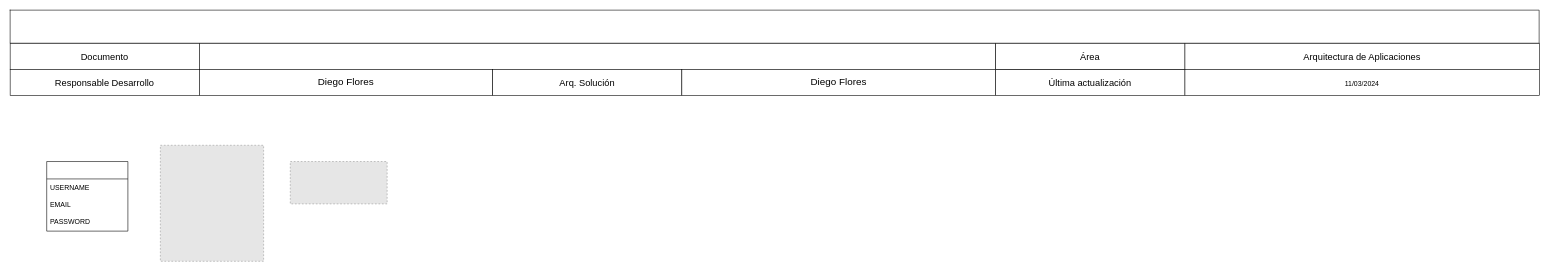
The diagram is 1556 pixels wide and 271 high, and some of its shapes have lost their labels. Grey dashed boxes stand in for pictures. The box of each missing label's shape, as (x1, y1, x2, y2) in pixels:
Documentación Técnica de Base de datos: (199, 43, 996, 69)
USERS: (46, 161, 128, 231)
